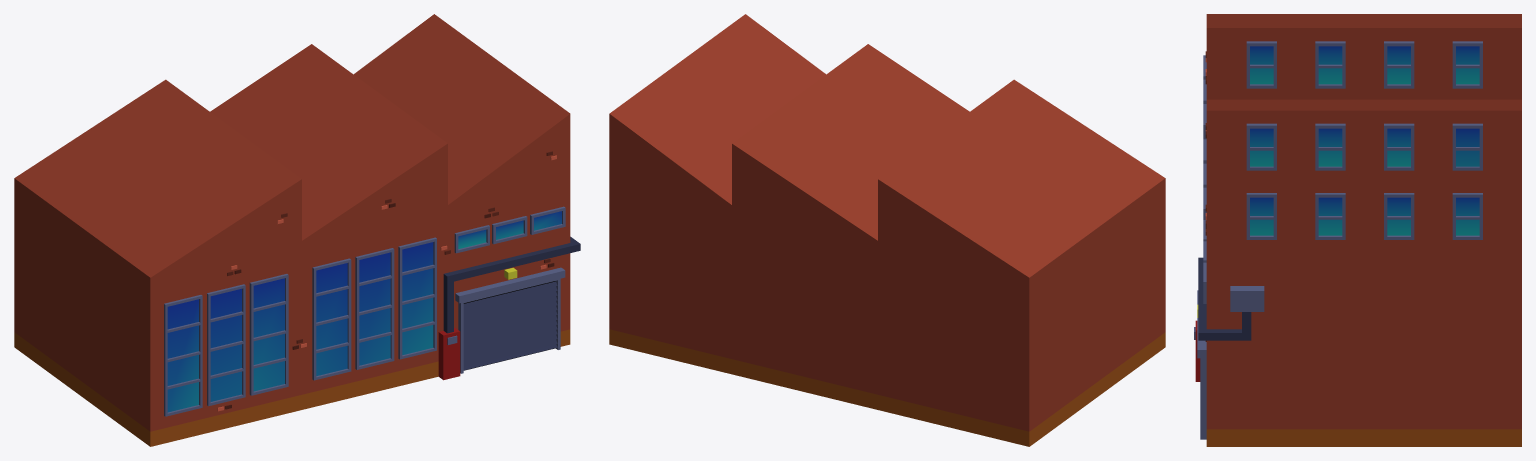
File: Factory_part1.FBX
3 renders of one model, left to right at view 1: azimuth 30°, elevation 25°; view 2: azimuth 150°, elevation 25°; view 3: azimuth 270°, elevation 25°, orthographic. The views are drawn at different scales.
Parts seen in each view (by area): view 1: Factory_mainpar; view 2: Factory_mainpar; view 3: Factory_mainpar.
Boxes of the visible parts, x1=… form: Factory_mainpar: x1=14, y1=14, x2=580, y2=446; Factory_mainpar: x1=609, y1=14, x2=1165, y2=446; Factory_mainpar: x1=1194, y1=14, x2=1521, y2=446.
Size of the model in its own units: 298 by 153 by 171.
